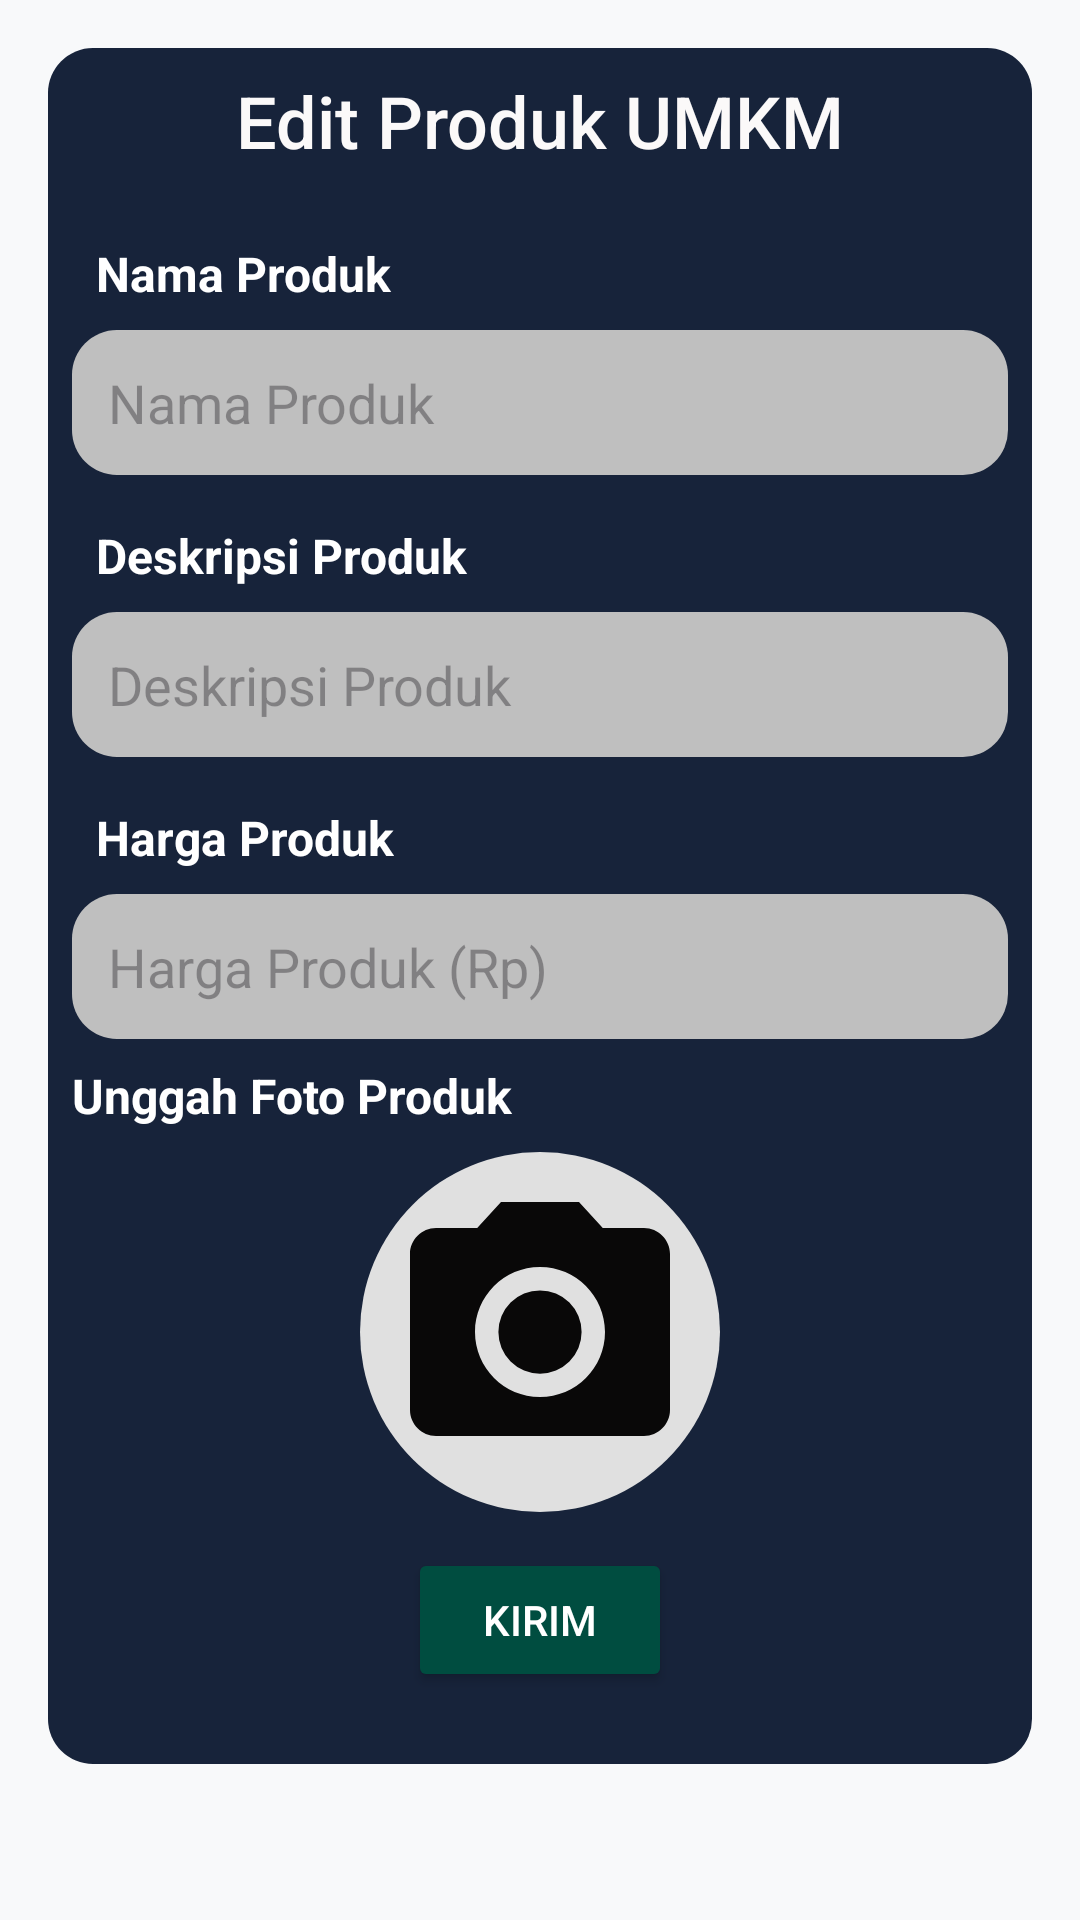

Icons on this 1080x1920 Android screen, each with the point to tap as (x=x, y=y):
camera: (x=540, y=1332)
